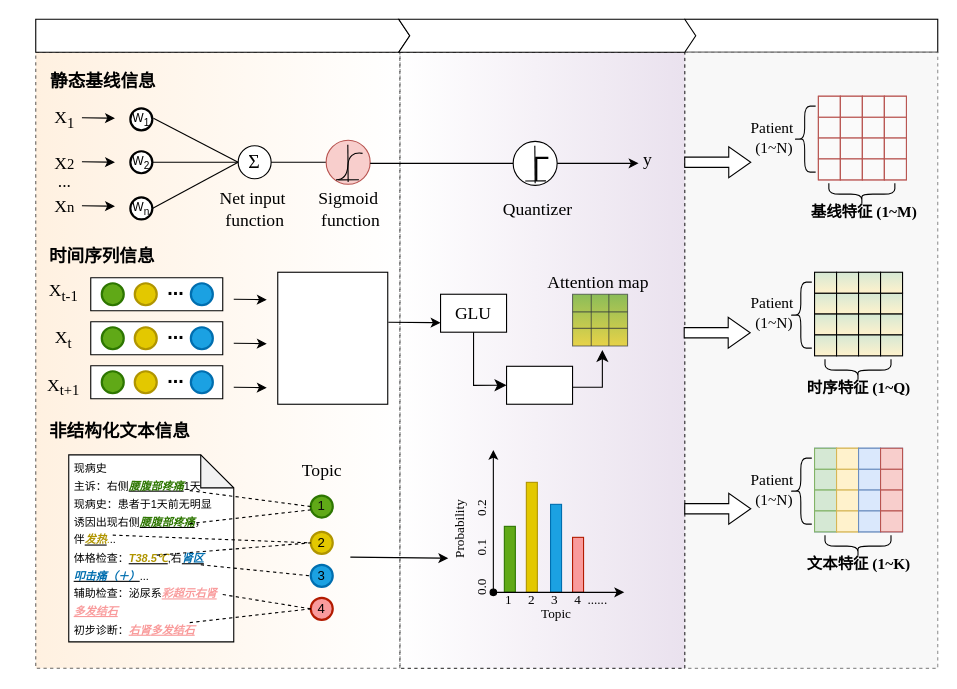
Image size: 957x689. Some labels were removed from this diagram. Each missing label, with the centre of its shape:
RNN + Custom attention layer: point (332, 337)
softmax: point (539, 384)
工作特征矩阵: point (811, 35)
编码器: point (222, 35)
解码器: point (547, 35)
